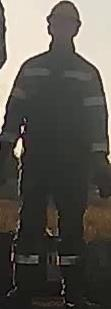gloves: (90, 152, 111, 199), (0, 143, 18, 185)
helmet: (44, 1, 83, 35)
vest: (10, 49, 102, 172)
